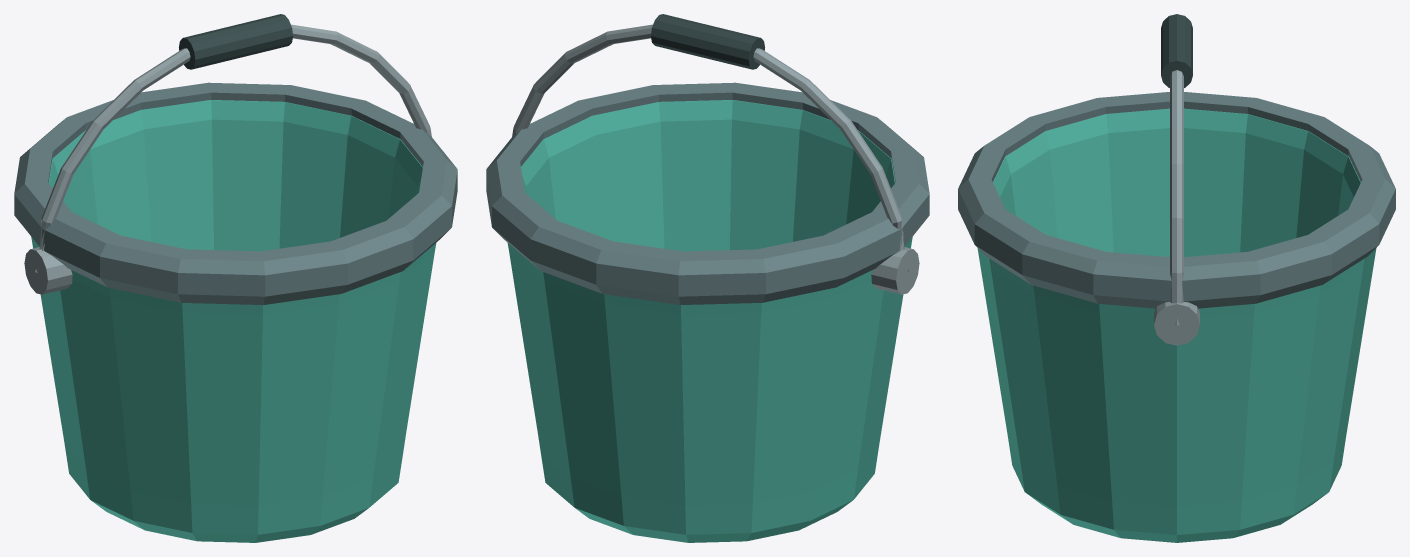
Rendered from Tools-Bucket.fbx.
3 views of the same model, side by side, from view 1: azimuth 30°, elevation 25°; view 2: azimuth 150°, elevation 25°; view 3: azimuth 270°, elevation 25° (orthographic). The views are drawn at different scales.
Parts seen in each view (by area): view 1: Open Bucket, Bucket Rim, Carry Bail, Carry Grip, Bail Pivot; view 2: Open Bucket, Bucket Rim, Carry Bail, Carry Grip, Bail Pivot; view 3: Open Bucket, Bucket Rim, Carry Bail, Carry Grip, Bail Pivot.001.
Part boxes in pixels (x1=…): Open Bucket: x1=31, y1=100, x2=436, y2=542; Bucket Rim: x1=14, y1=82, x2=457, y2=304; Carry Bail: x1=35, y1=24, x2=431, y2=272; Carry Grip: x1=179, y1=14, x2=292, y2=69; Bail Pivot: x1=24, y1=247, x2=72, y2=294; Open Bucket: x1=507, y1=100, x2=912, y2=542; Bucket Rim: x1=486, y1=82, x2=929, y2=304; Carry Bail: x1=512, y1=24, x2=908, y2=272; Carry Grip: x1=651, y1=14, x2=764, y2=69; Bail Pivot: x1=871, y1=247, x2=919, y2=294; Open Bucket: x1=977, y1=108, x2=1376, y2=542; Bucket Rim: x1=958, y1=92, x2=1395, y2=308; Carry Bail: x1=1170, y1=70, x2=1183, y2=325; Carry Grip: x1=1161, y1=14, x2=1192, y2=87; Bail Pivot.001: x1=1154, y1=302, x2=1199, y2=345.
Bounding box in the file's own units: 0.394 × 0.425 × 0.38.
